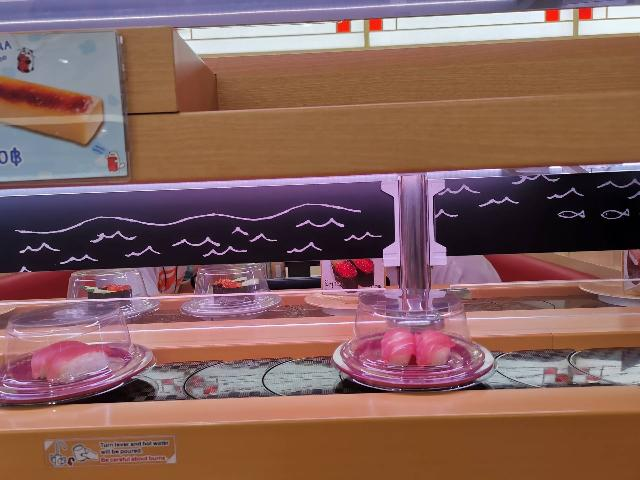janred: (0, 317, 183, 410), (321, 320, 485, 401)
janwhite: (173, 281, 313, 326), (57, 289, 193, 330)
